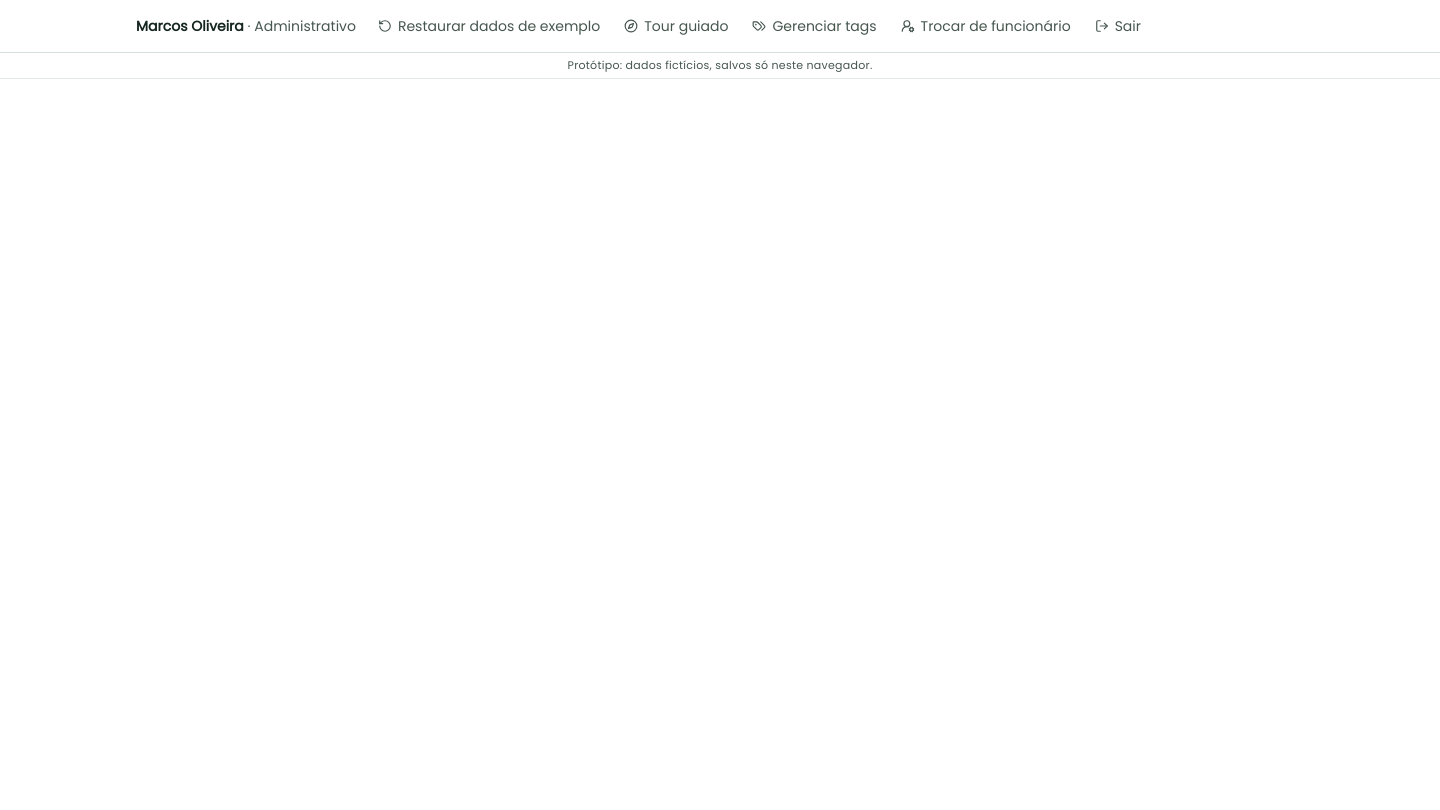
Test: Gerenciar tags › lista de tags corrompida no navegador não quebra a tela
Click the button "Gerenciar tags": point(814, 26) [742,10,886,42]
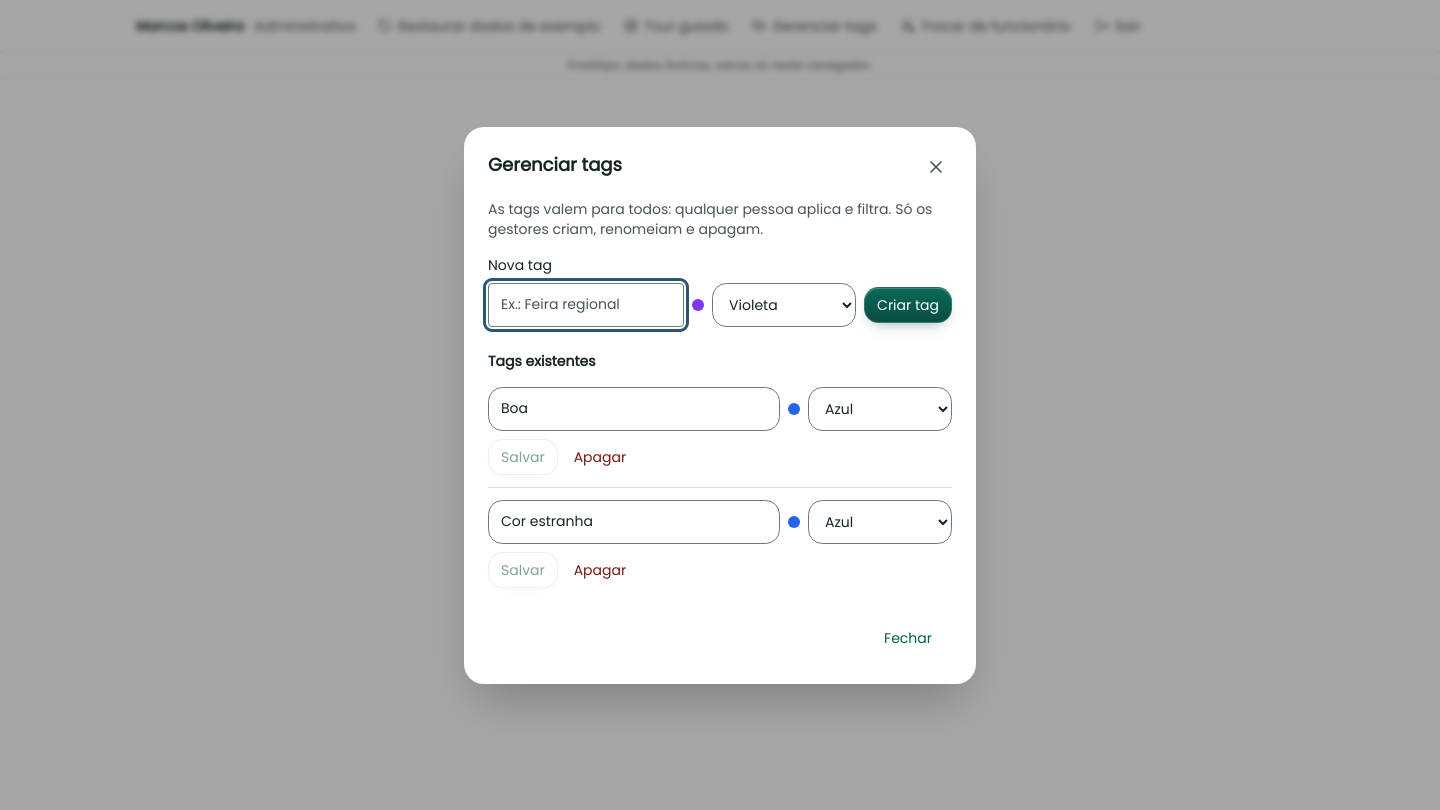
Result: the number of fields named "Nome da tag" is 2 at [488,386,780,430]; [488,500,780,544]
Result: the dropdown named "Cor da tag Cor estranha" shows "Azul" at [808,500,952,544]
